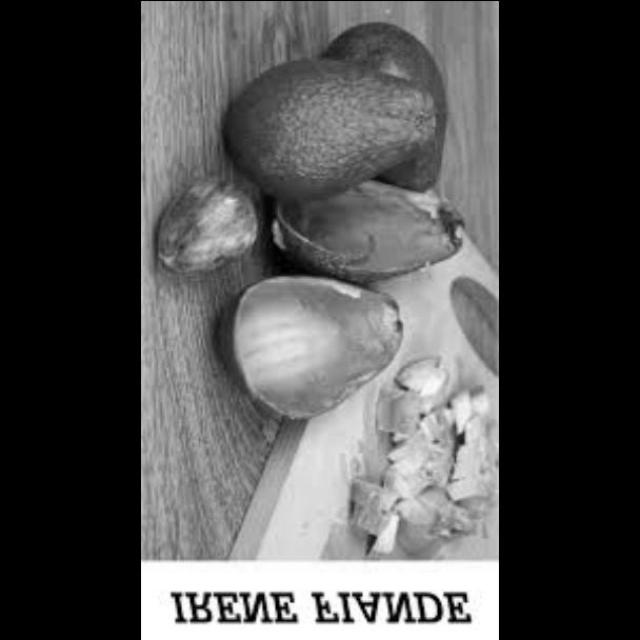bo: (210, 274, 424, 430), (222, 49, 447, 172), (242, 178, 491, 287), (378, 338, 500, 559), (343, 1, 449, 199)
